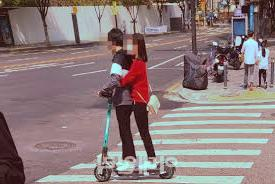multiple: (96, 28, 175, 181)
